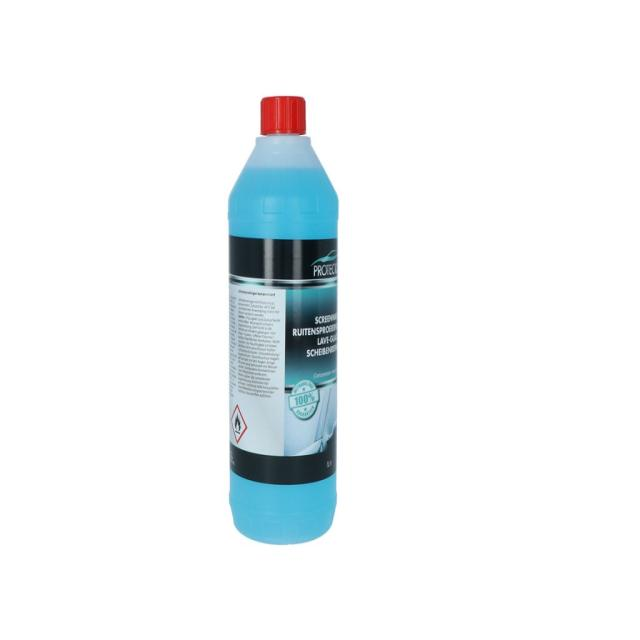winwinshield_washer: (224, 89, 343, 548)
